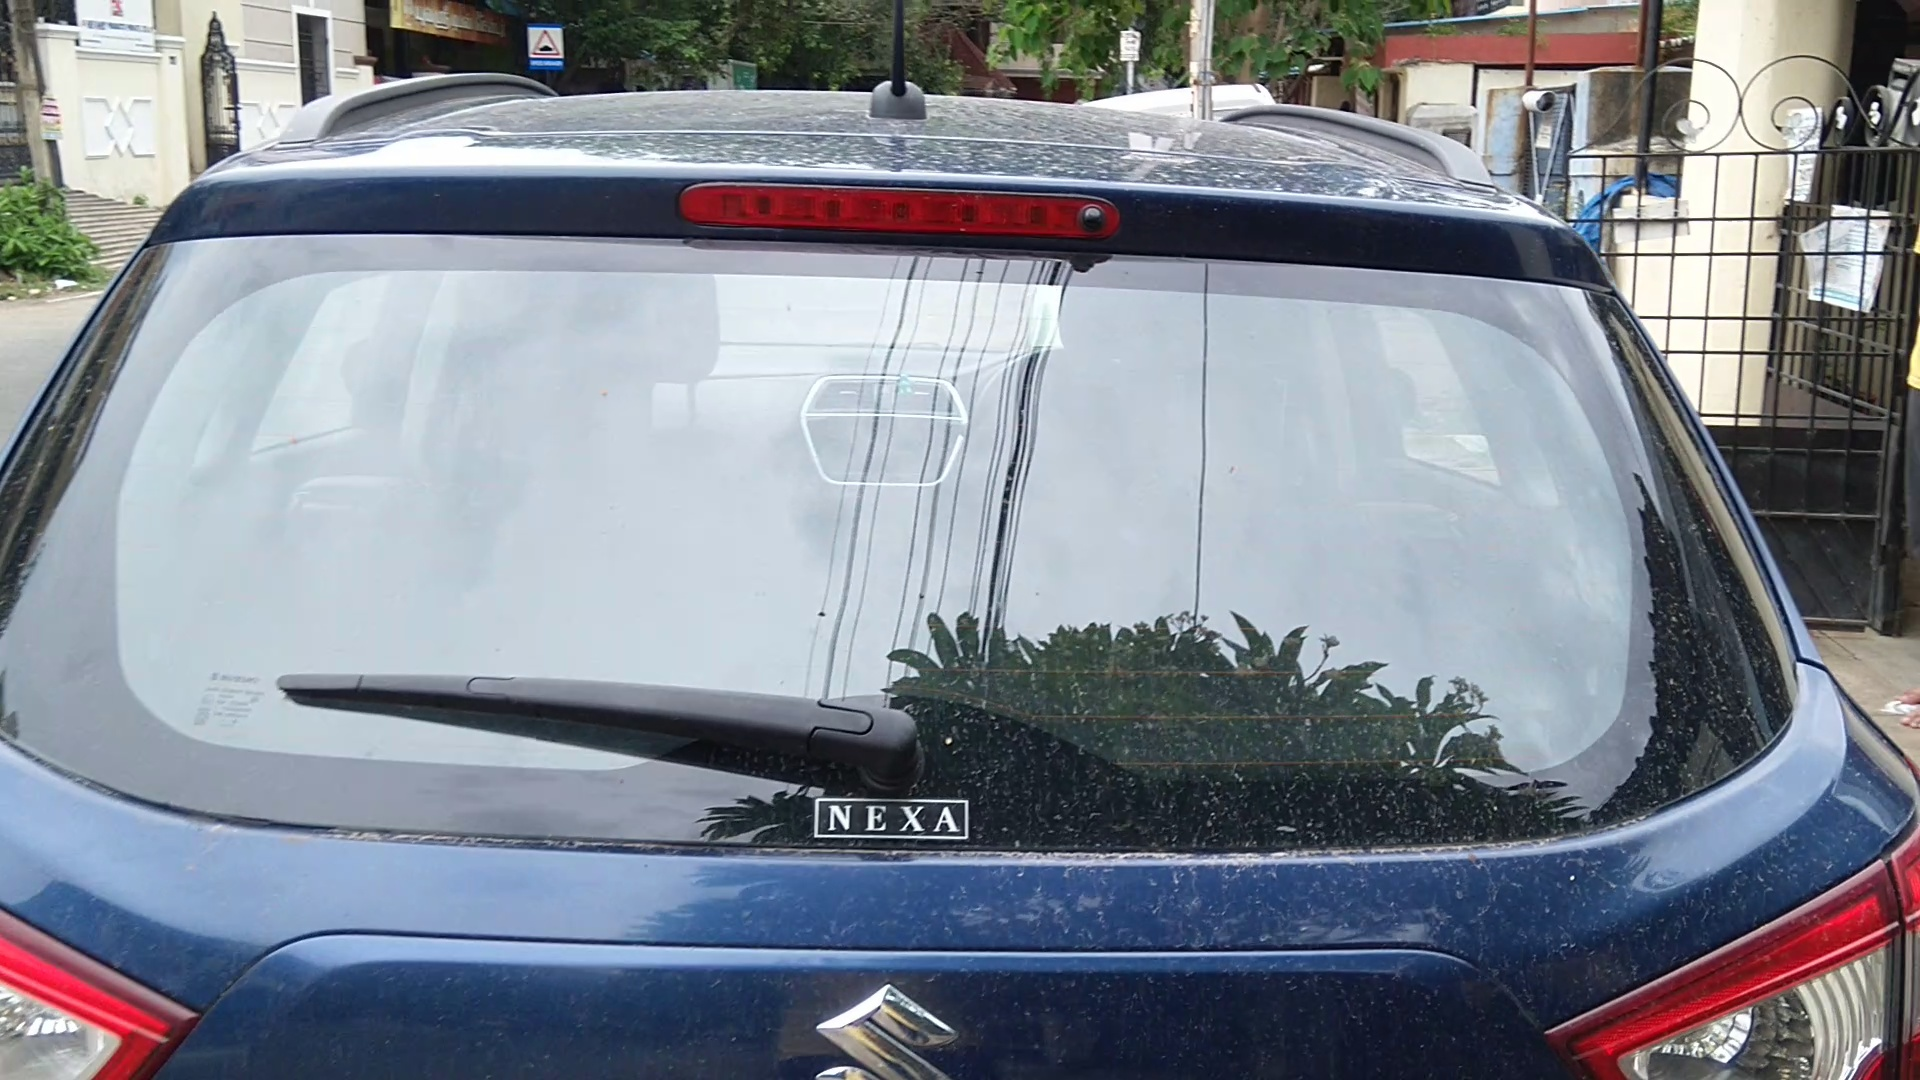rear_camera: (1067, 190, 1114, 233)
